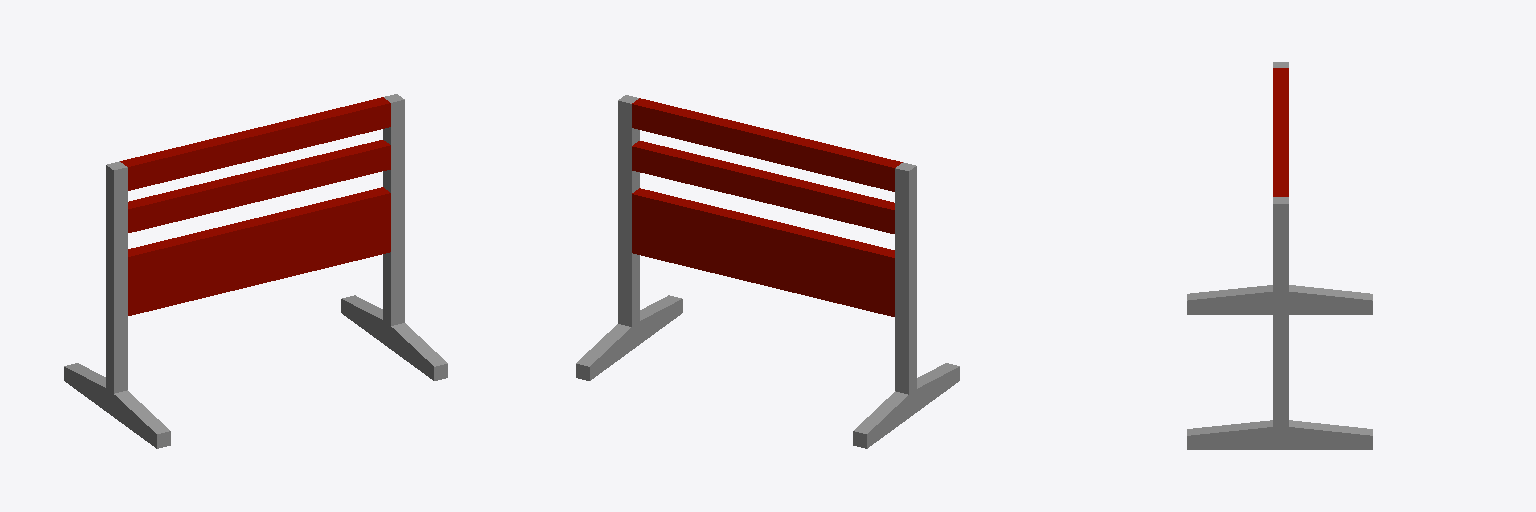
Rendered from Barrier.obj.
3 views of the same model, side by side, from view 1: azimuth 30°, elevation 25°; view 2: azimuth 150°, elevation 25°; view 3: azimuth 270°, elevation 25° (orthographic).
Visible parts, largest first — view 1: Cube_Cube.005; view 2: Cube_Cube.005; view 3: Cube_Cube.005.
Boxes of the visible parts, box(x1,y1,x2,y2) form: Cube_Cube.005: box(64, 94, 447, 448); Cube_Cube.005: box(576, 95, 959, 448); Cube_Cube.005: box(1187, 62, 1372, 449).
Size of the model in its own units: 2.1 by 1.7 by 1.16.